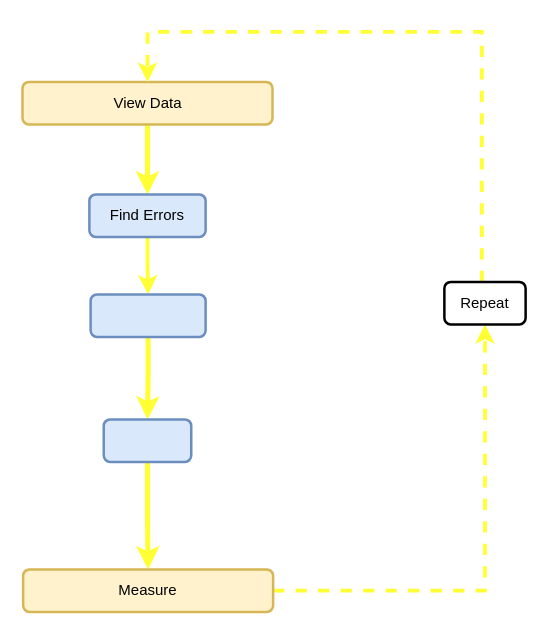
Some shapes in this 549 by 635 pixel diagram are drawn without their labels. The centre of each missing label's shape, as x and y in pixels:
Categorize: point (147, 315)
Fix: point (147, 440)
